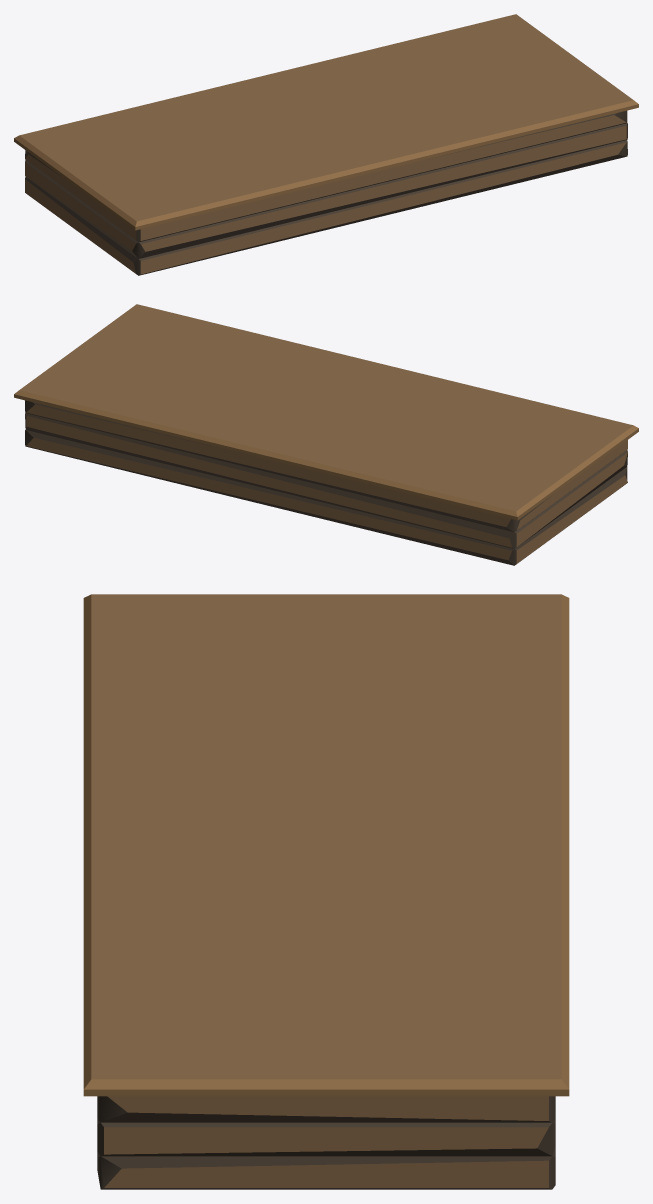
The model's file is IntroDeck.fbx.
3 renders of one model, top to bottom at view 1: azimuth 30°, elevation 25°; view 2: azimuth 150°, elevation 25°; view 3: azimuth 270°, elevation 25°, orthographic. The views are drawn at different scales.
Parts seen in each view (by area): view 1: Deck; view 2: Deck; view 3: Deck.
Part boxes in pixels (left/top/right/bottom): Deck: left=14, top=14, right=638, bottom=275; Deck: left=14, top=304, right=638, bottom=565; Deck: left=83, top=594, right=569, bottom=1189.
Size of the model in its own units: 10.3 by 1.12 by 4.3.
